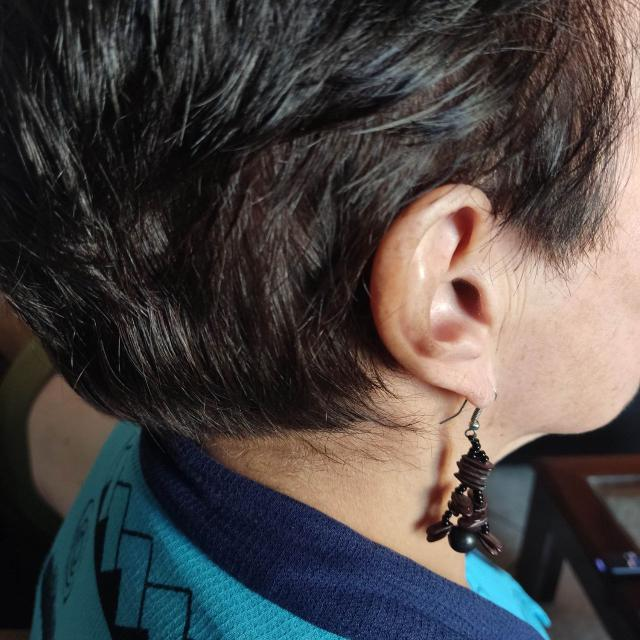ear: (372, 185, 494, 407)
